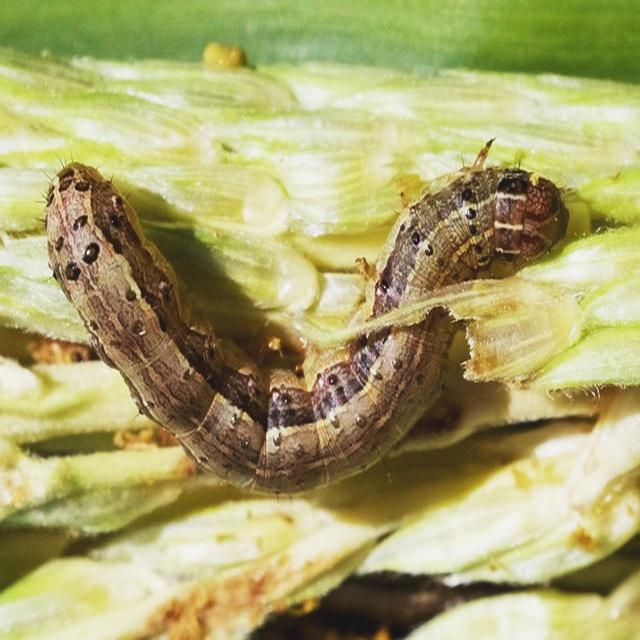worm: (41, 137, 570, 498)
